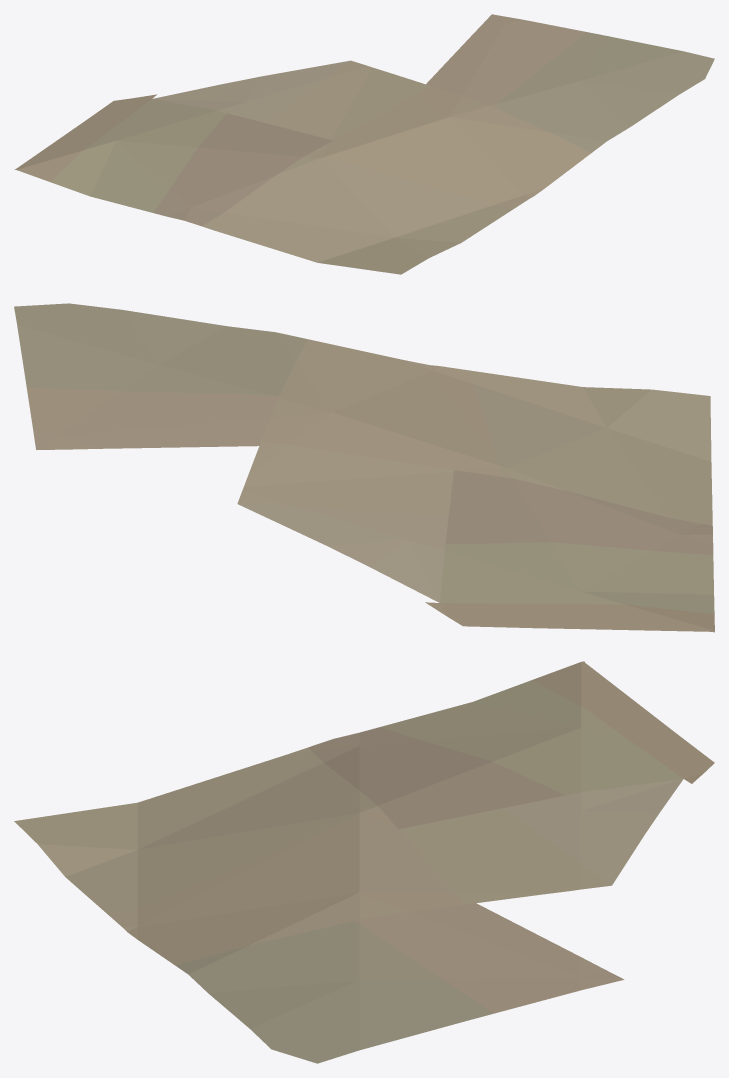
The model's file is farm_-10_6_soil.glb.
The picture shows the model from 3 angles, top to bottom: view 1: azimuth 30°, elevation 25°; view 2: azimuth 150°, elevation 25°; view 3: azimuth 270°, elevation 25°; orthographic projection. The views are drawn at different scales.
Visible parts, largest first — view 1: geometry_0; view 2: geometry_0; view 3: geometry_0.
Part boxes in pixels (box(x1,y1,x2,y2)): geometry_0: box(14, 14, 714, 274); geometry_0: box(14, 303, 714, 632); geometry_0: box(14, 661, 714, 1063).
Size of the model in its own units: 378 by 28.96 by 253.
